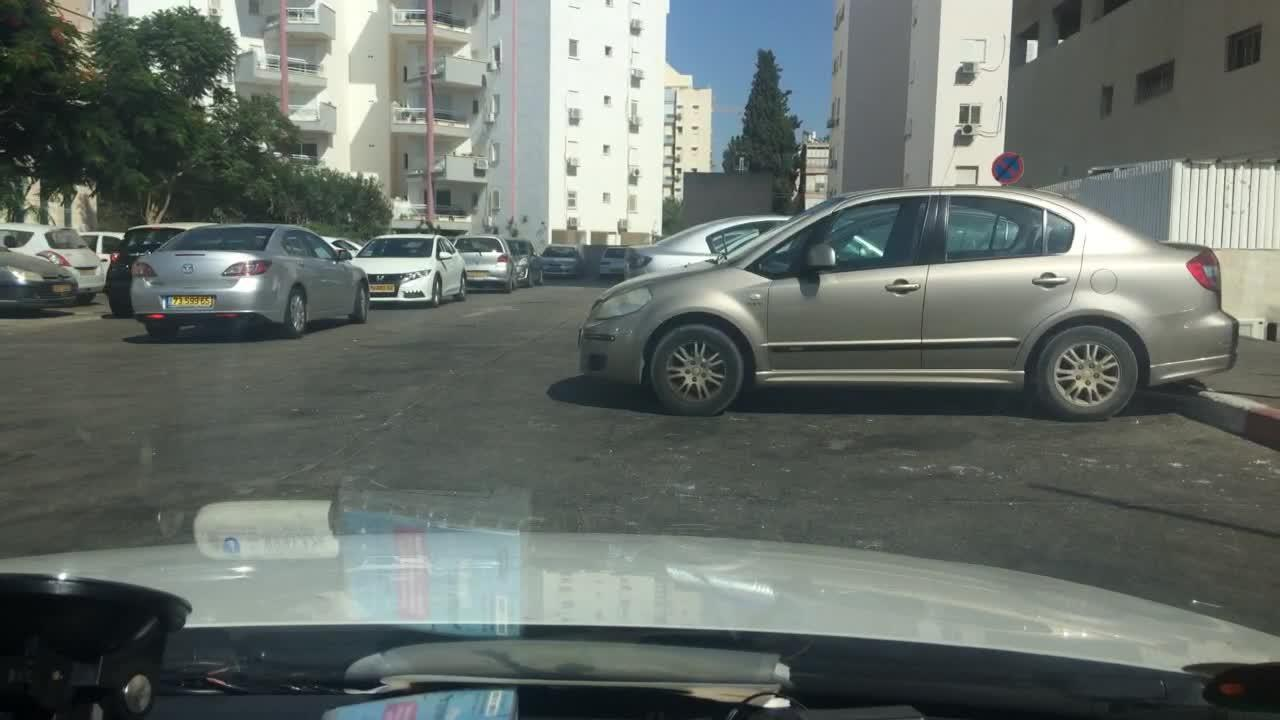Audi: (175, 258, 199, 276)
